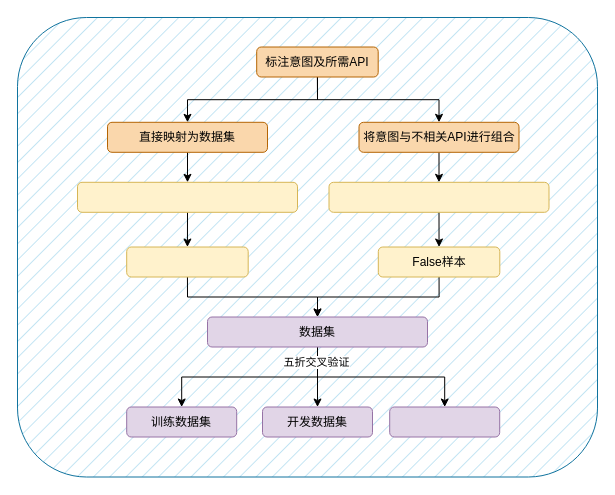
The diagram is 615 pixels wide and 495 high, and some of its shapes have lost their labels. The shapes that lost their labels are listed below. From the top down, each one's centre as x and y in pixels, then its label:
At (x=187, y=196): "意图，意图所对应的API描述，1".
At (x=438, y=196): "意图，随机生成的API描述，0".
At (x=187, y=261): "True样本".
At (x=444, y=421): "测试数据集".
